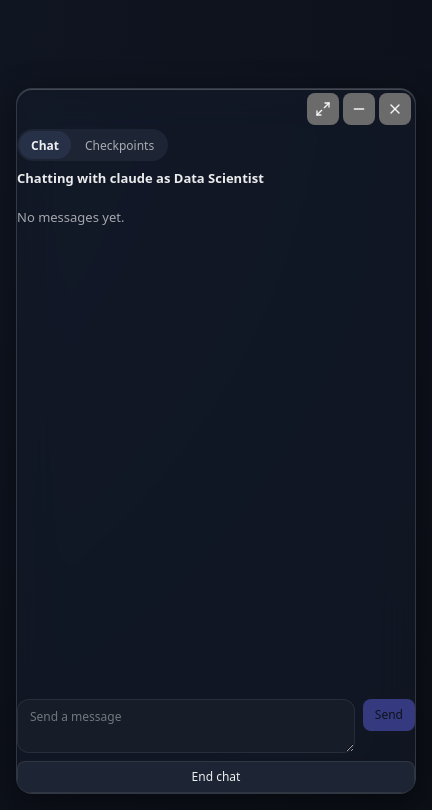
Test: the collapsed pill shows the persona name when one is active
Click the button with test id "chat-dock-minimize" at (359, 109), box [343,93,375,125]
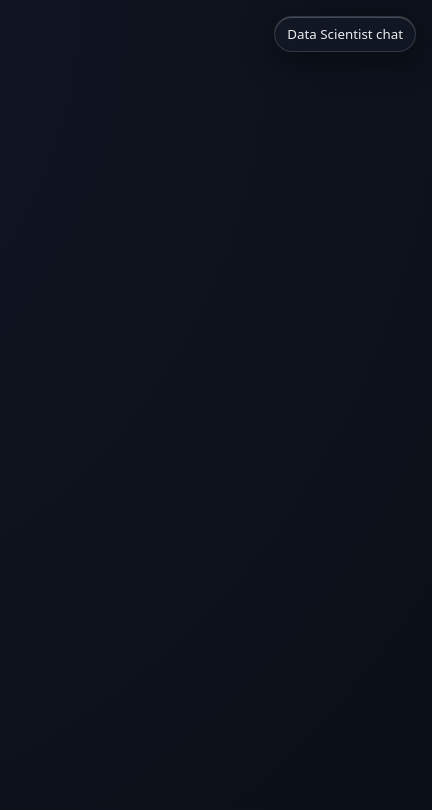
Expected: the button with test id "chat-modal-pill" reads "Data Scientist chat", [274,16,416,52]
